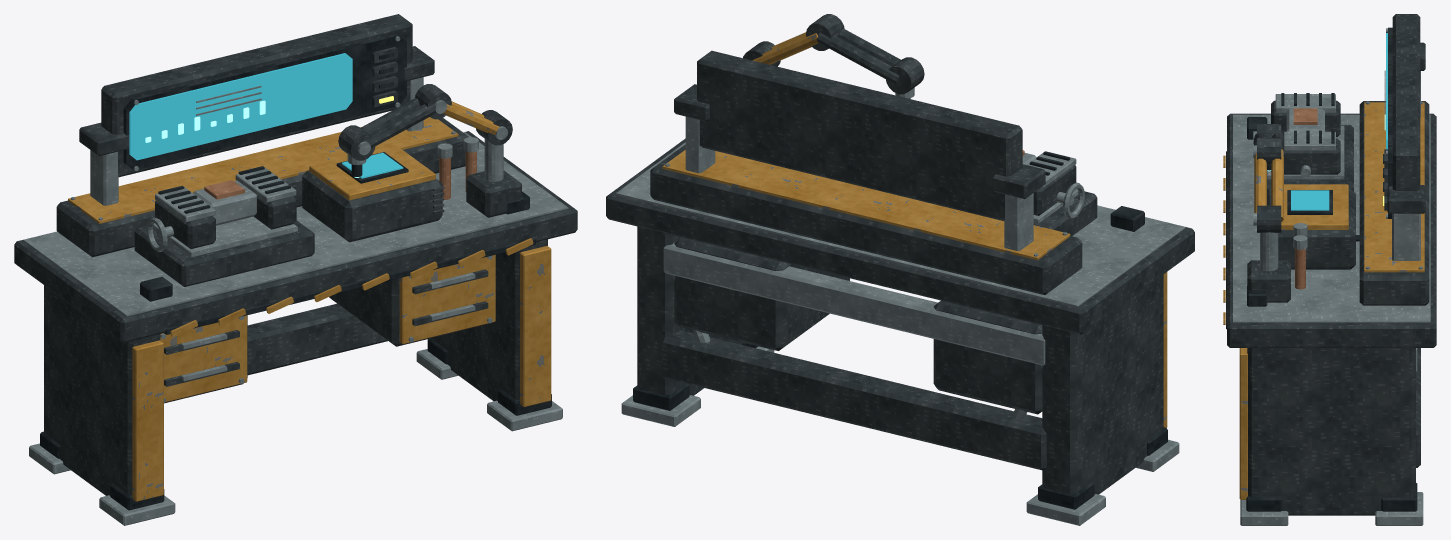
File: engineering_workstation.glb
The picture shows the model from 3 angles, left to right: view 1: azimuth 30°, elevation 25°; view 2: azimuth 150°, elevation 25°; view 3: azimuth 270°, elevation 25°; orthographic projection. The views are drawn at different scales.
Parts seen in each view (by area): view 1: engineering_workstation; view 2: engineering_workstation; view 3: engineering_workstation.
Part boxes in pixels (x1,y1,x2,y2): engineering_workstation: (14,14,577,525); engineering_workstation: (606,14,1194,525); engineering_workstation: (1223,14,1436,525).
Bounding box in the file's own units: 2.1 × 1.56 × 0.885.
Materials: 8 (5 with a texture image).
